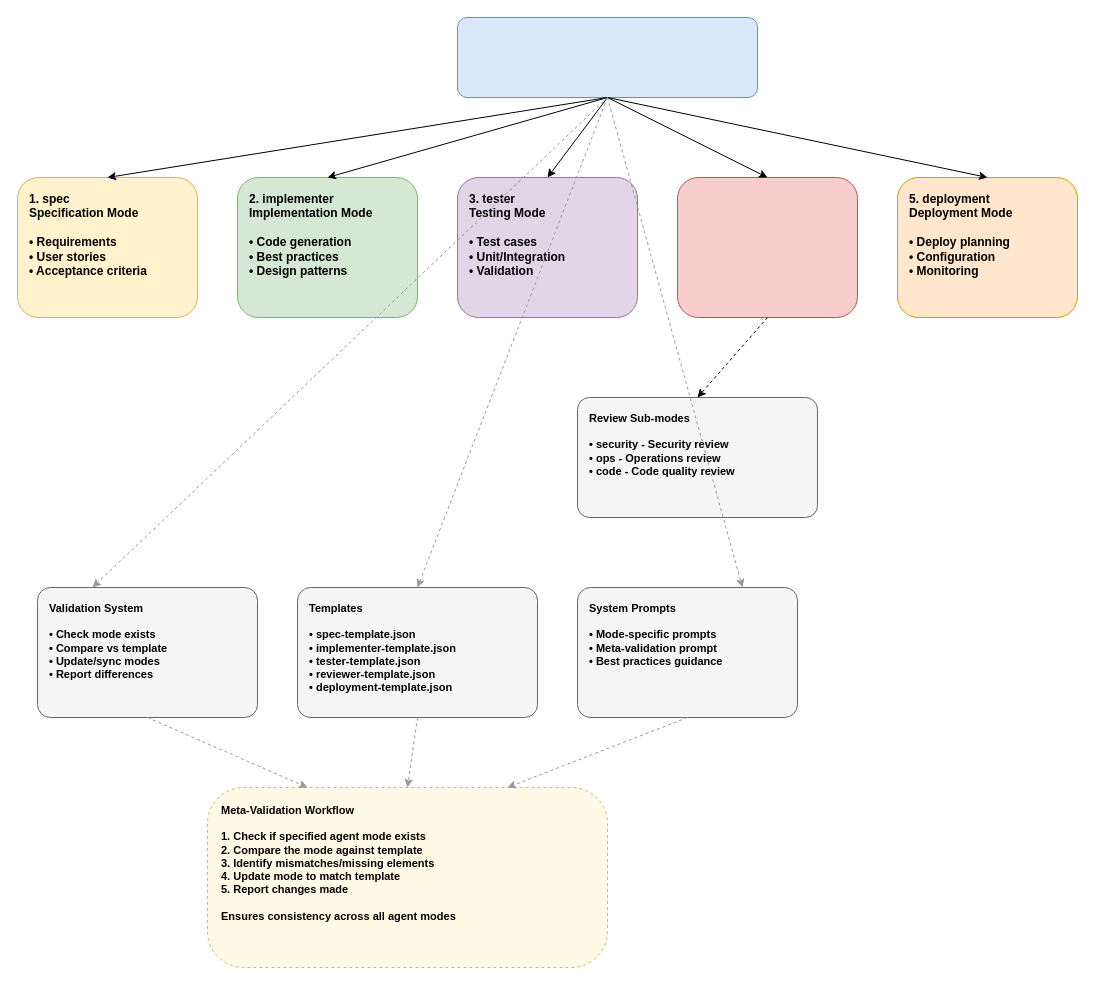
Image size: 1095x985. Some labels were removed from this diagram. Here are the shapes that lost their labels. From the top down, the centre of each, then its label:
At (x=607, y=57): "MCP Server Template System".
At (x=767, y=247): "4. review Review Modes • Security • Ops • Code quality".
